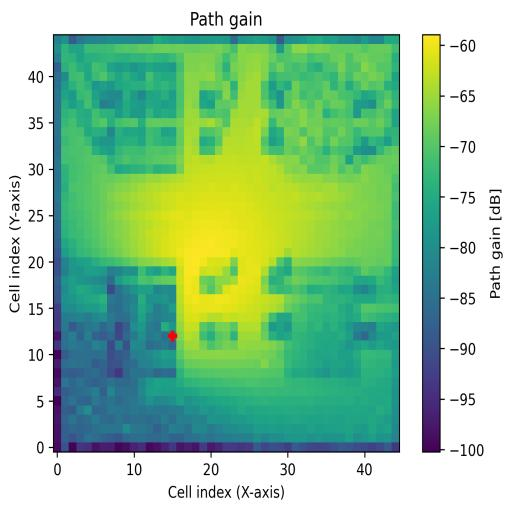Concrete: (292, 54, 360, 174)
Glass: (107, 53, 184, 173)
Metal: (283, 256, 362, 378)
Wood: (108, 266, 176, 378)
